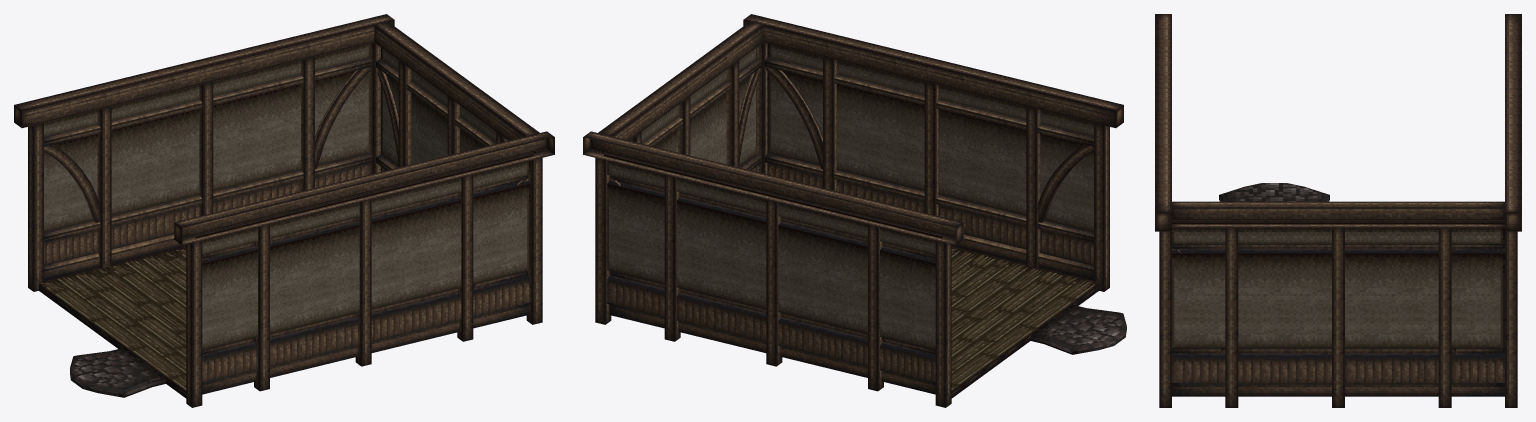
Rendered from EnvBdgMD_Mount_A_Indoor_House_B_R.FBX.
The picture shows the model from 3 angles, left to right: view 1: azimuth 30°, elevation 25°; view 2: azimuth 150°, elevation 25°; view 3: azimuth 270°, elevation 25°; orthographic projection. The views are drawn at different scales.
Parts seen in each view (by area): view 1: EnvBdgMD_Mount_A_Indoor_House_B_R; view 2: EnvBdgMD_Mount_A_Indoor_House_B_R; view 3: EnvBdgMD_Mount_A_Indoor_House_B_R.
Boxes of the visible parts, <box> form: EnvBdgMD_Mount_A_Indoor_House_B_R: <box>14,14,554,407</box>; EnvBdgMD_Mount_A_Indoor_House_B_R: <box>583,14,1126,407</box>; EnvBdgMD_Mount_A_Indoor_House_B_R: <box>1155,14,1521,407</box>.
Size of the model in its own units: 1250 by 520 by 860.
1 material, 1 textured.
